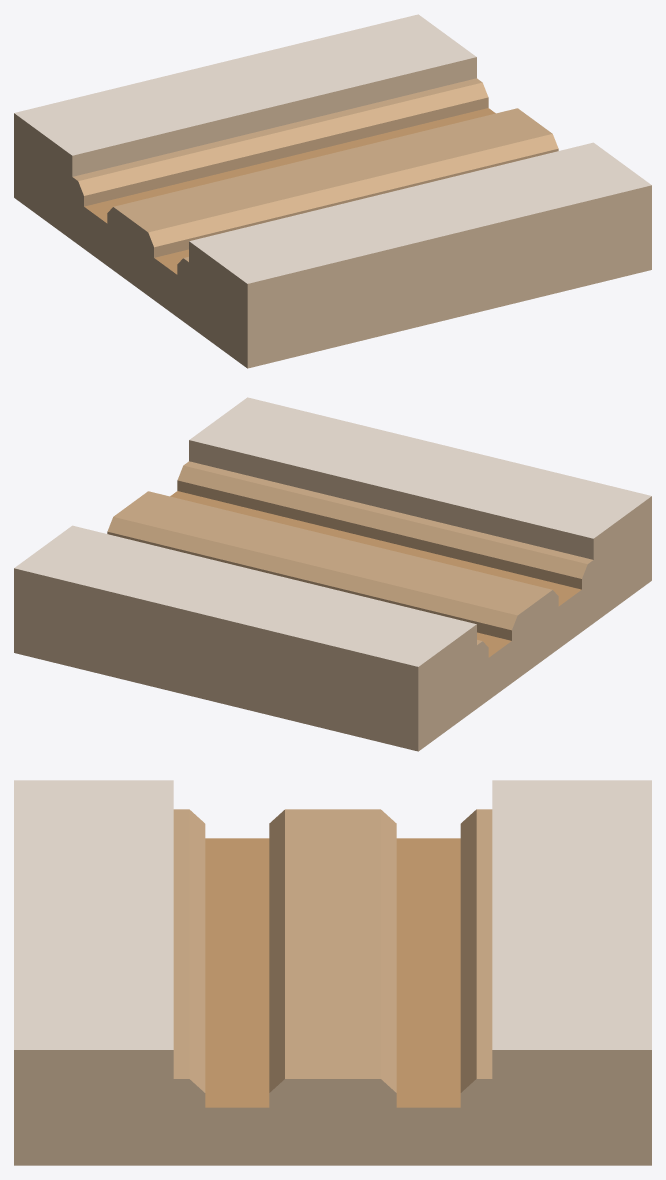
File: Puzzle_Track_Standard_Straight.fbx
3 renders of one model, top to bottom at view 1: azimuth 30°, elevation 25°; view 2: azimuth 150°, elevation 25°; view 3: azimuth 270°, elevation 25°, orthographic. The views are drawn at different scales.
Visible parts, largest first — view 1: Sandstone_Trim.Sandstone_Trim.Sandstone_Trim.object1, Sandstone_Floor.Sandstone_Floor, Sandstone_4.Sandstone_4.Sandstone_4, Sandstone_5.Sandstone_5; view 2: Sandstone_Trim.Sandstone_Trim.Sandstone_Trim.object1, Sandstone_Floor.Sandstone_Floor, Sandstone_4.Sandstone_4.Sandstone_4, Sandstone_5.Sandstone_5; view 3: Sandstone_Floor.Sandstone_Floor, Sandstone_Trim.Sandstone_Trim.Sandstone_Trim.object1, Sandstone_4.Sandstone_4.Sandstone_4, Sandstone_5.Sandstone_5.
Boxes of the visible parts, <box> form: Sandstone_Trim.Sandstone_Trim.Sandstone_Trim.object1: <box>14,57,651,368</box>; Sandstone_Floor.Sandstone_Floor: <box>14,14,651,283</box>; Sandstone_4.Sandstone_4.Sandstone_4: <box>73,78,558,261</box>; Sandstone_5.Sandstone_5: <box>84,108,495,274</box>; Sandstone_Trim.Sandstone_Trim.Sandstone_Trim.object1: <box>14,440,651,751</box>; Sandstone_Floor.Sandstone_Floor: <box>14,397,651,666</box>; Sandstone_4.Sandstone_4.Sandstone_4: <box>107,461,592,644</box>; Sandstone_5.Sandstone_5: <box>170,491,581,657</box>; Sandstone_Floor.Sandstone_Floor: <box>14,780,651,1049</box>; Sandstone_Trim.Sandstone_Trim.Sandstone_Trim.object1: <box>14,1050,651,1165</box>; Sandstone_4.Sandstone_4.Sandstone_4: <box>173,809,492,1092</box>; Sandstone_5.Sandstone_5: <box>205,838,460,1107</box>.
Bounding box in the file's own units: 1 × 0.2 × 1.
